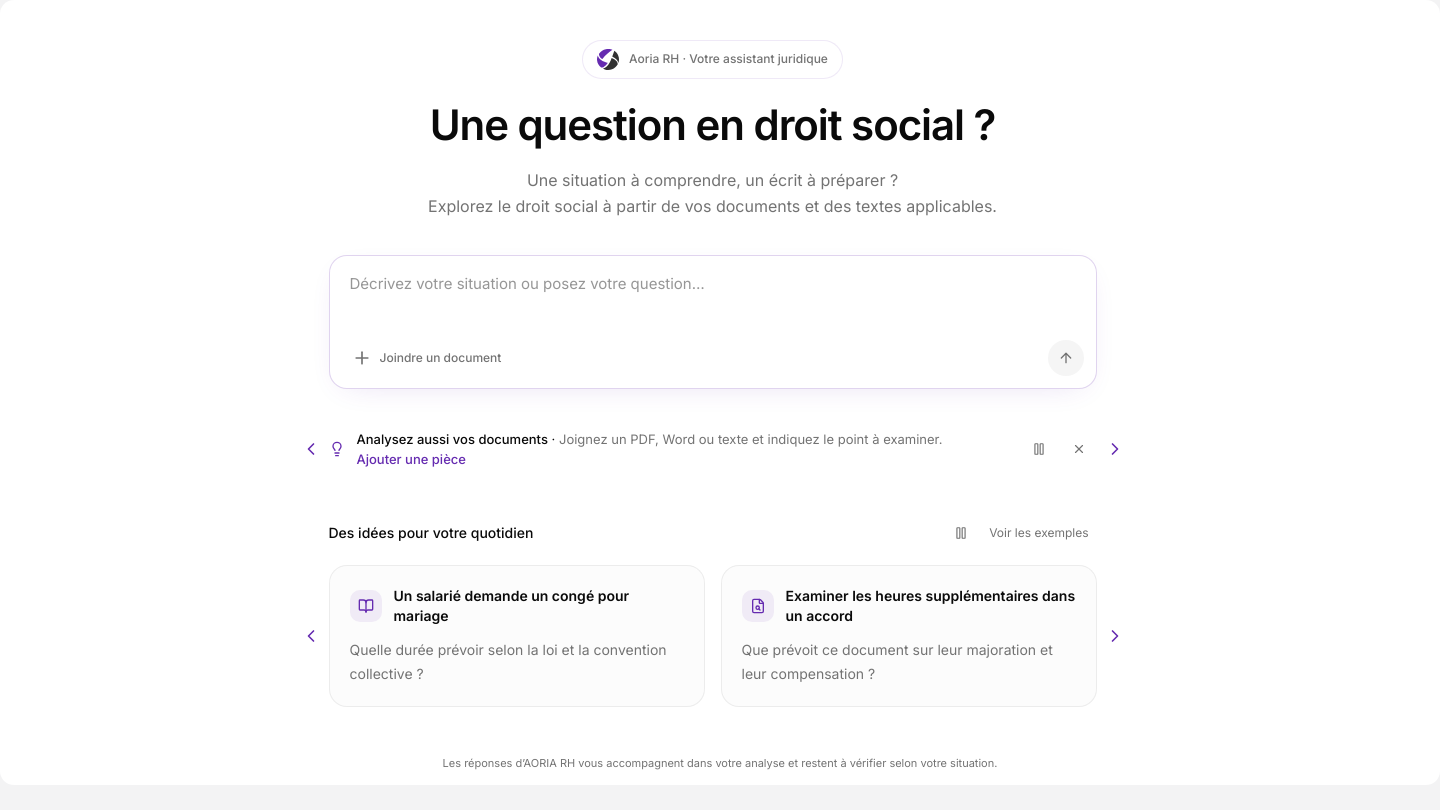
it: keeps the question visible and shows a persistent provider error
The width and height of the screenshot is (1440, 810).
In the text box: point(712, 296) [330,256,1096,336], type "Question à conserver"
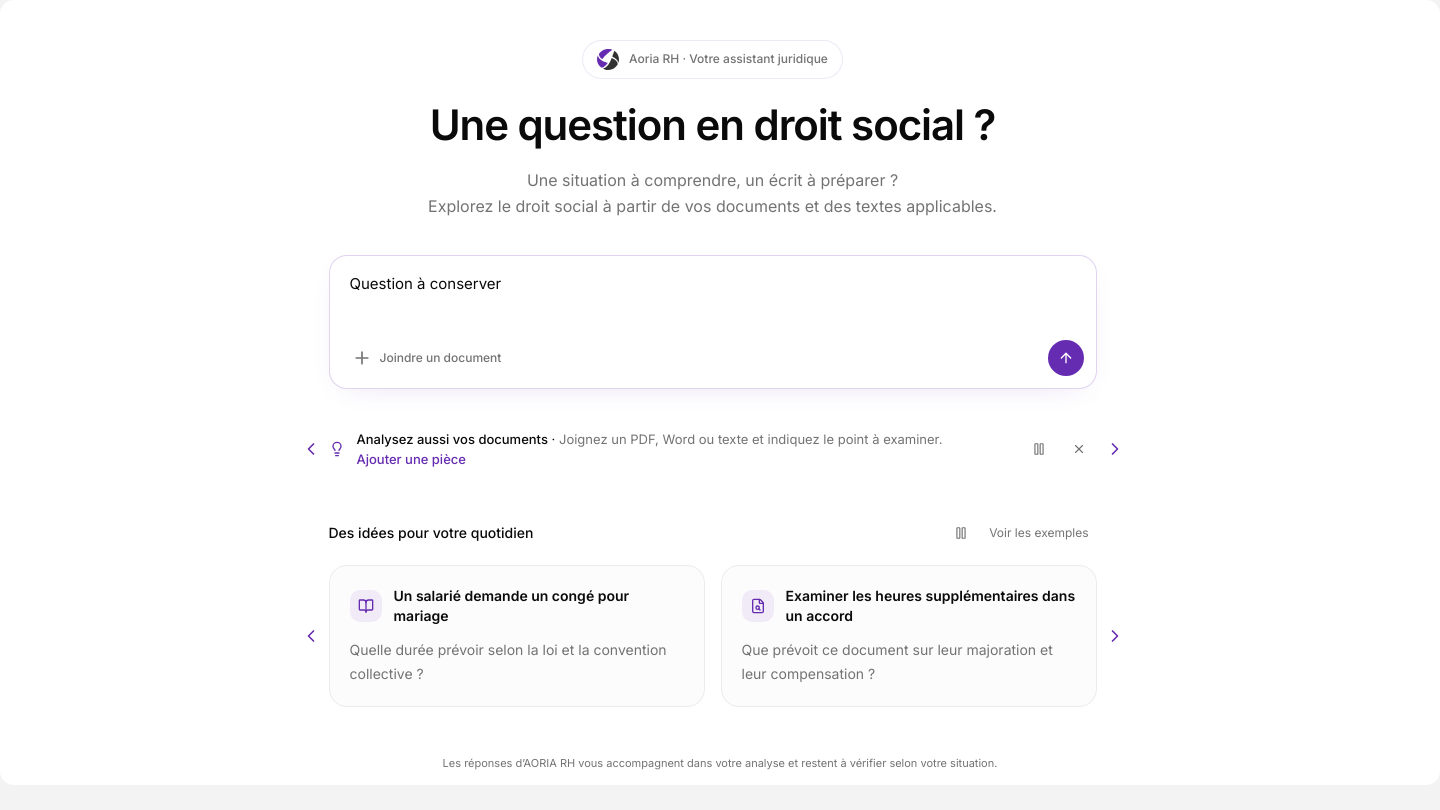
Press Enter in the text box, box [330,256,1096,336]
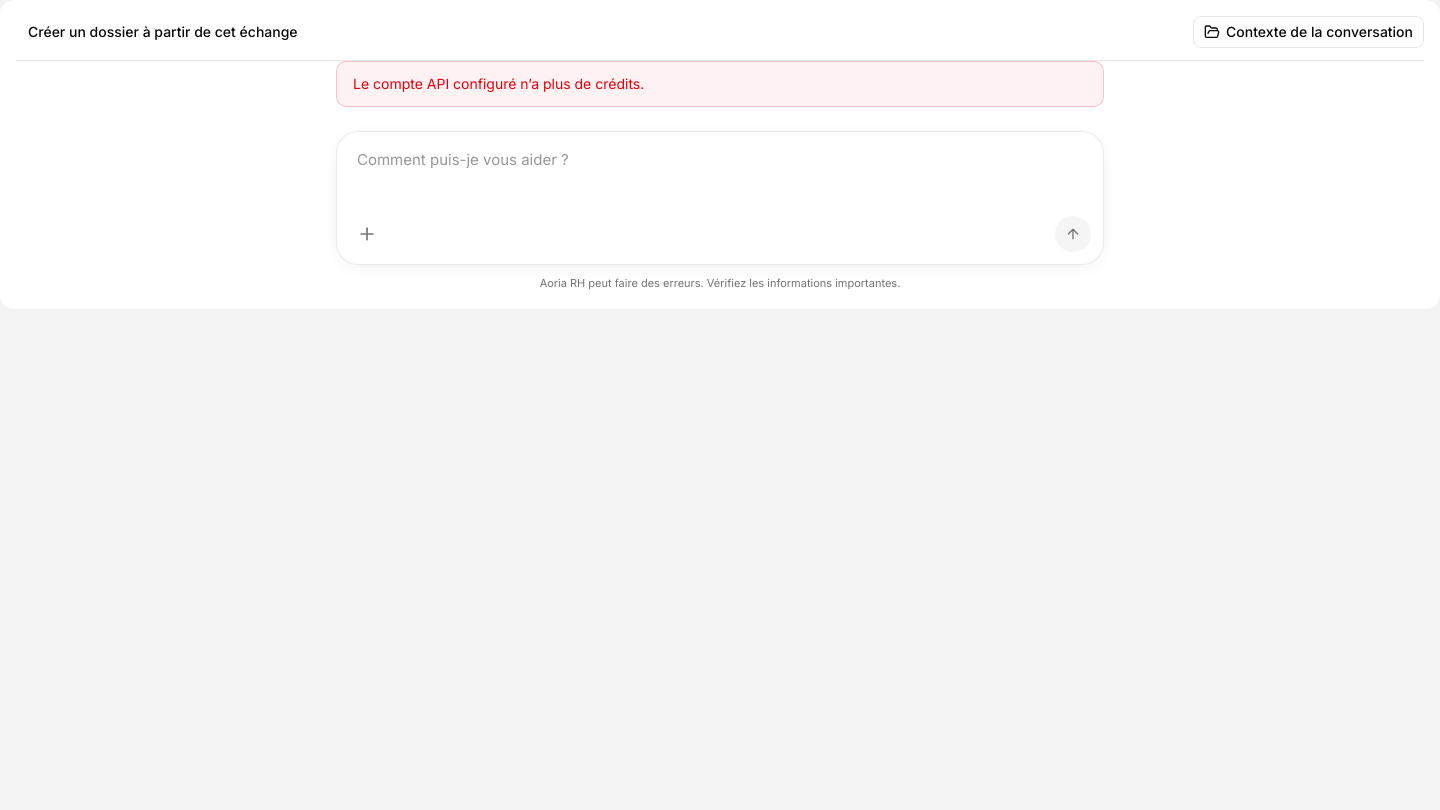
Check: the message shows "n’a plus de crédits", box [353,75,644,92]
